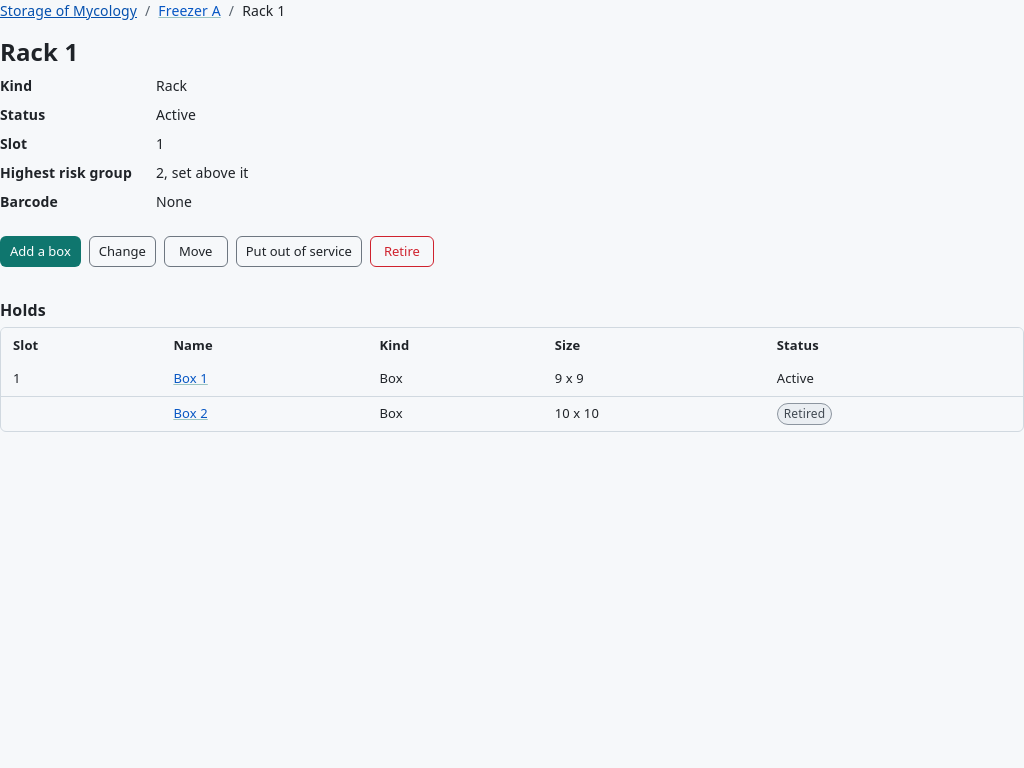
Test: UnitDetail › changes the name, and the answer becomes the unit on screen
The image size is (1024, 768).
Click the button "Change". click: (122, 252)
box: [89, 236, 156, 267]
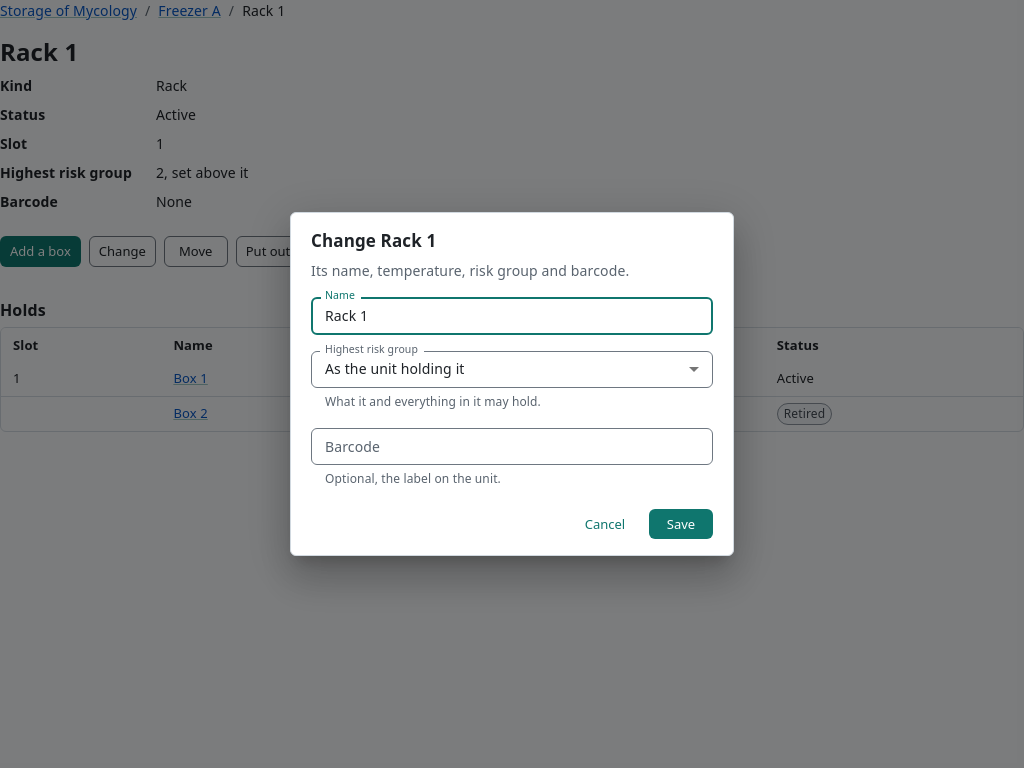
Clear the field labelled "Name". click: (512, 316)
box: [311, 297, 713, 334]
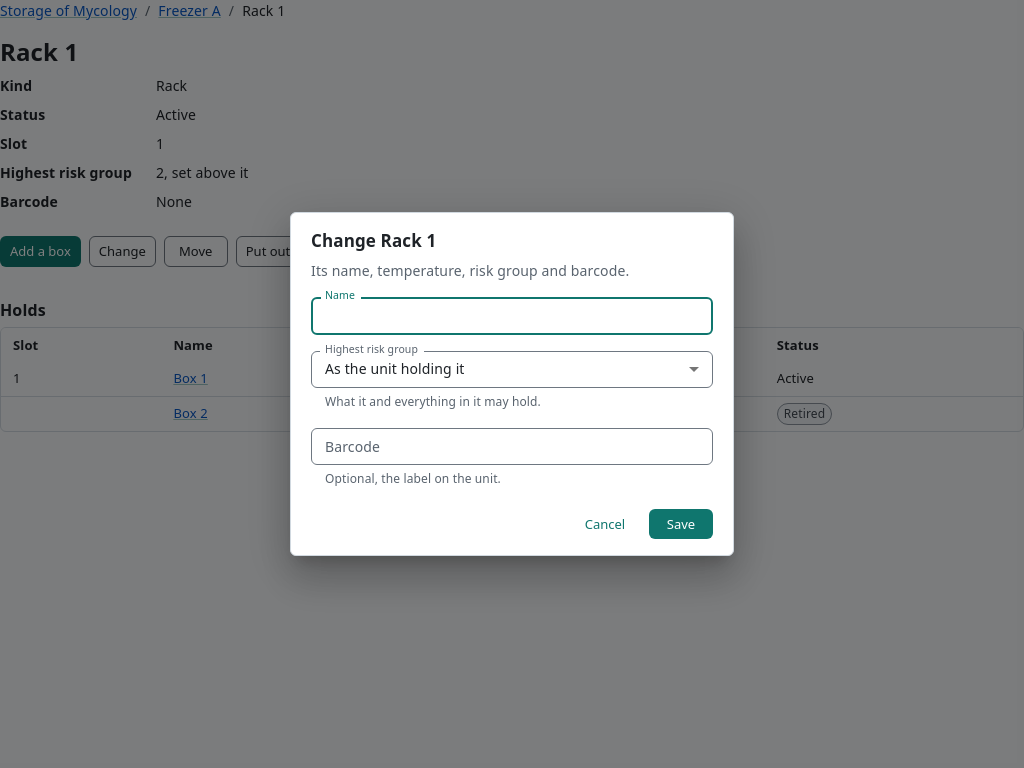
Type keys "Rack 1a"
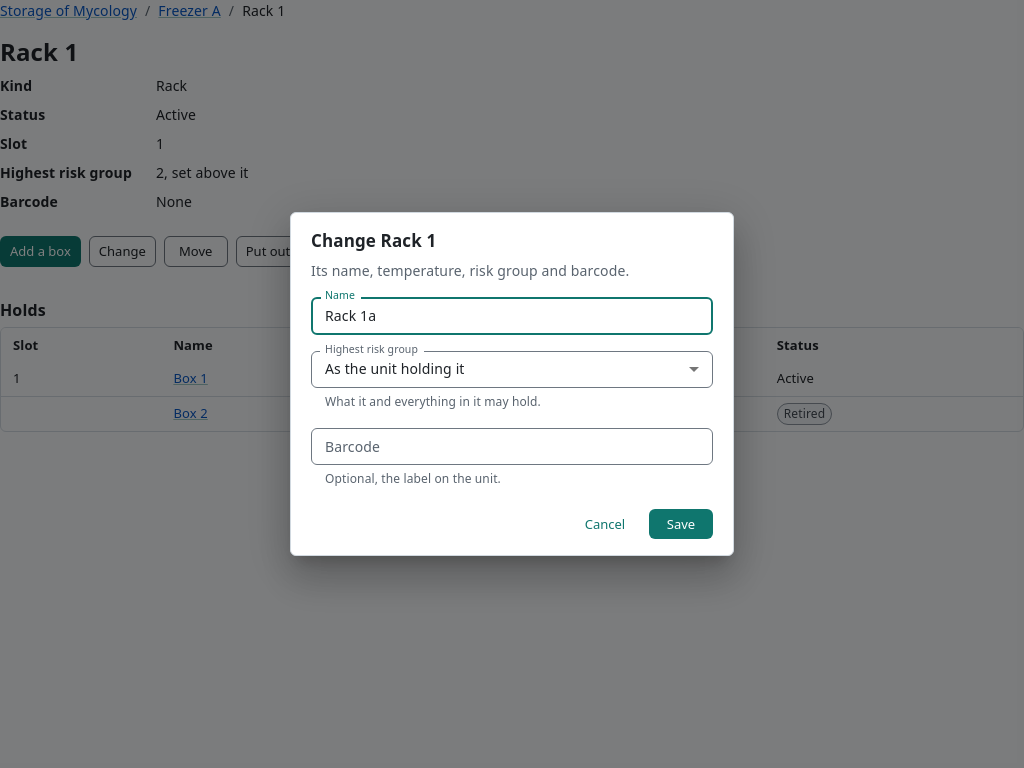
Click the button "Save". click: (681, 524)
box: [649, 509, 713, 539]
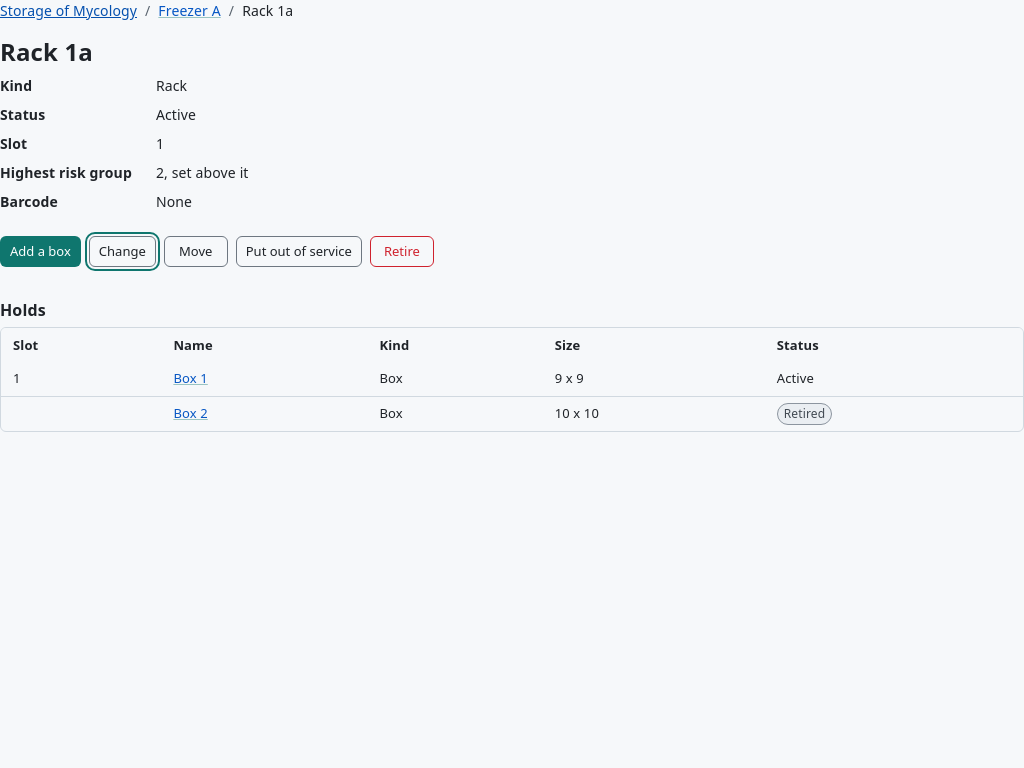
Expected: the heading "Change Rack 1" is gone
